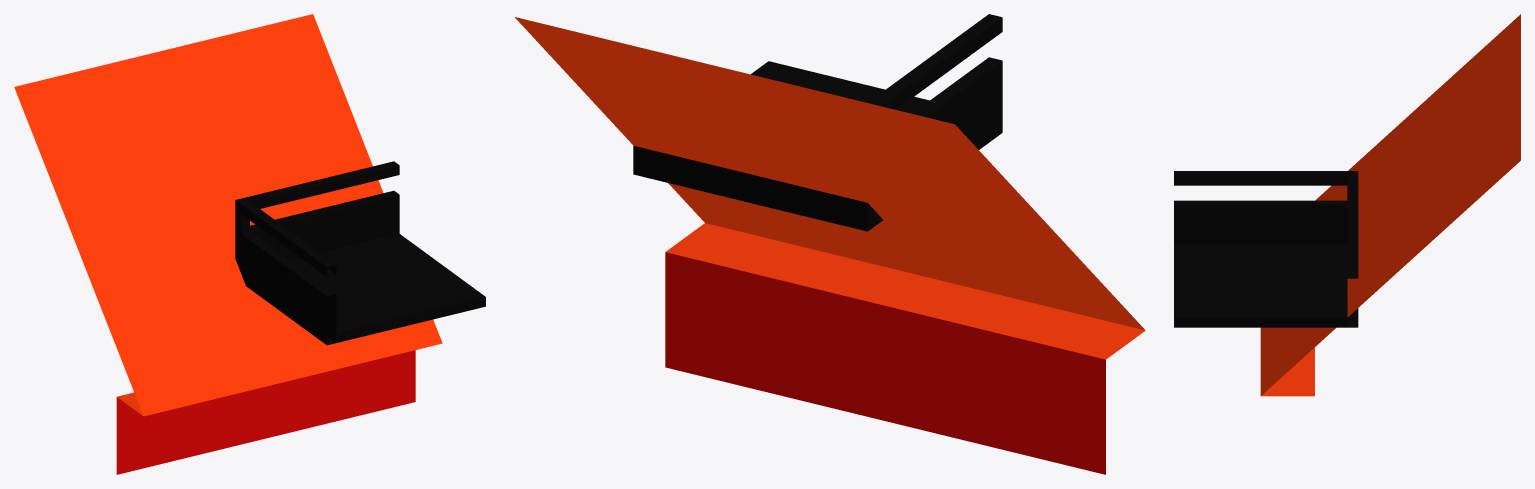
The picture shows the model from 3 angles, left to right: view 1: azimuth 30°, elevation 25°; view 2: azimuth 150°, elevation 25°; view 3: azimuth 270°, elevation 25°; orthographic projection. The views are drawn at different scales.
Parts seen in each view (by area): view 1: None_S_P_E_E_S_E_E_E_None; view 2: None_S_P_E_E_S_E_E_E_None; view 3: None_S_P_E_E_S_E_E_E_None.
Part boxes in pixels (x1,y1,x2,y2): None_S_P_E_E_S_E_E_E_None: (14,14,485,474); None_S_P_E_E_S_E_E_E_None: (515,14,1145,474); None_S_P_E_E_S_E_E_E_None: (1174,14,1520,396).
Size of the model in its own units: 100 by 100 by 100.
